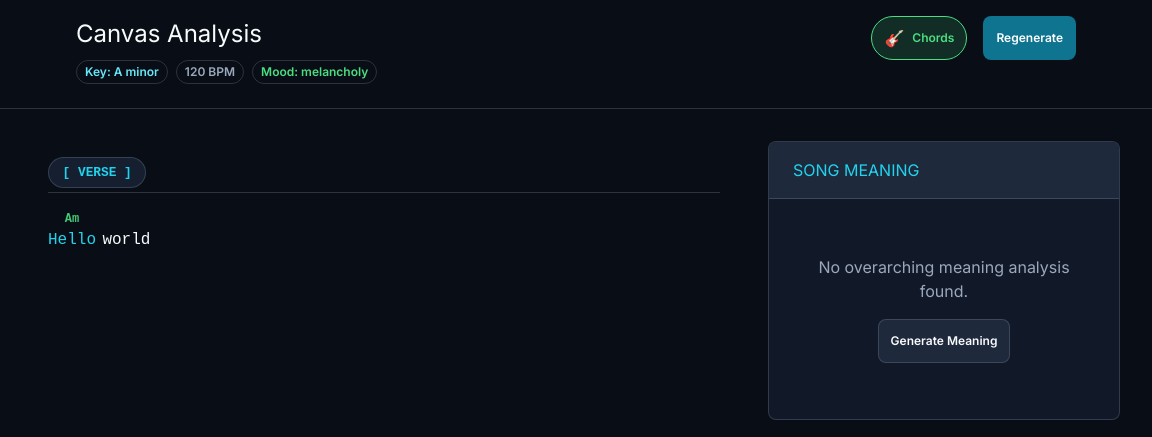
Test: LyricsCanvas › generates the meaning from the empty interpretation state
Step 1. Click the button "Generate Meaning" → (944, 341), box x1=878 y1=319 x2=1010 y2=363
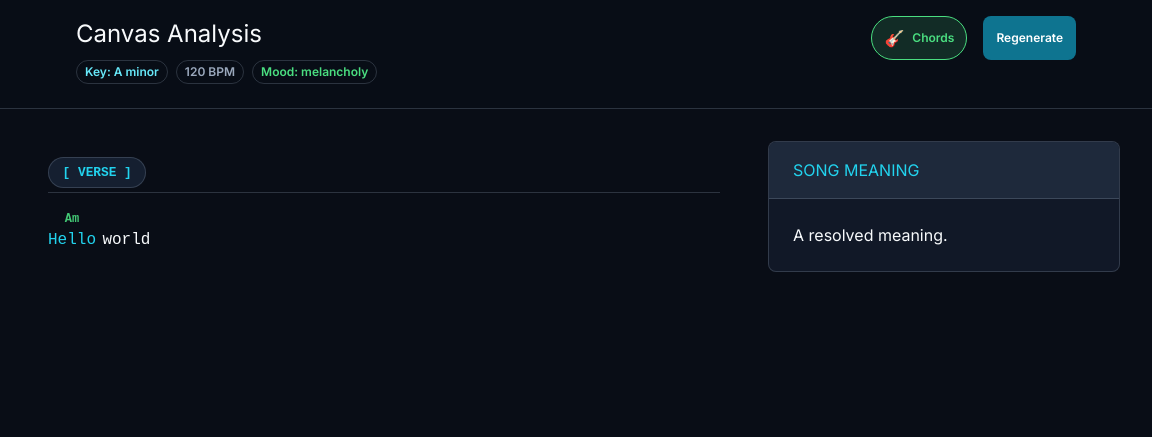
Check: the text "A resolved meaning." is shown, box x1=793 y1=225 x2=948 y2=245
